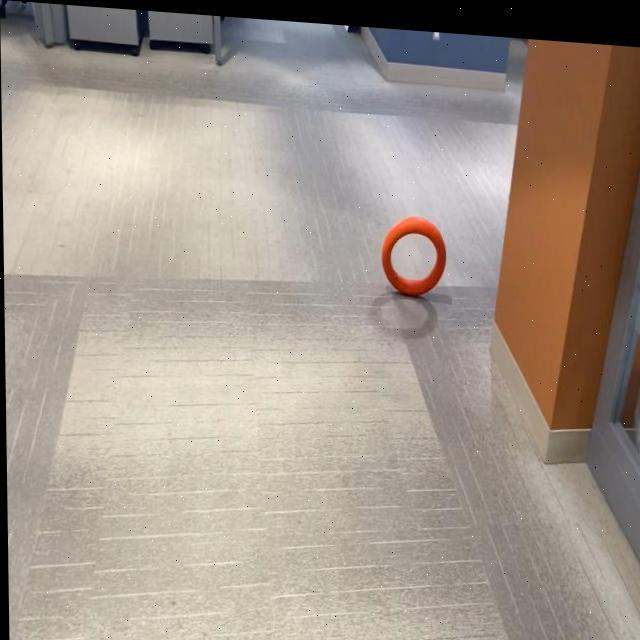note: (380, 204, 447, 294)
